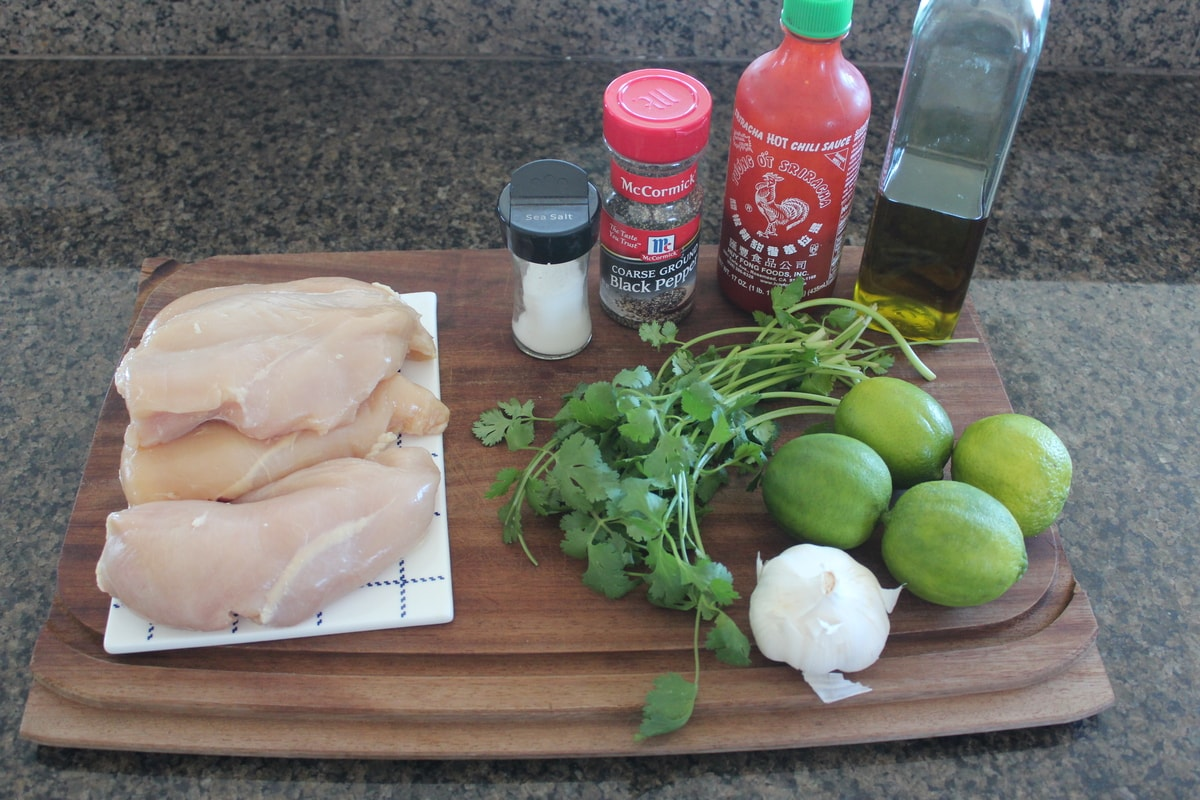Chicken: (92, 450, 442, 637), (88, 366, 463, 506), (115, 279, 433, 432)
Cilantro: (489, 324, 790, 733)
